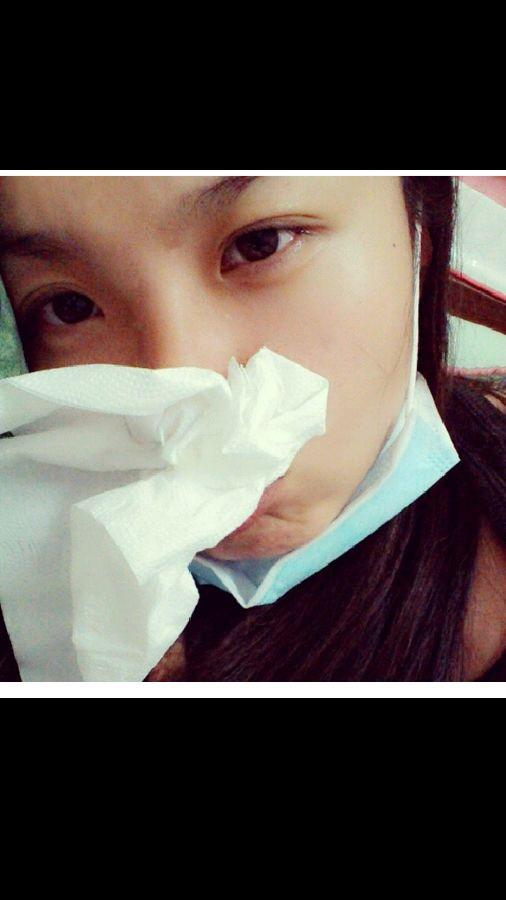WRONG: (14, 172, 450, 588)
